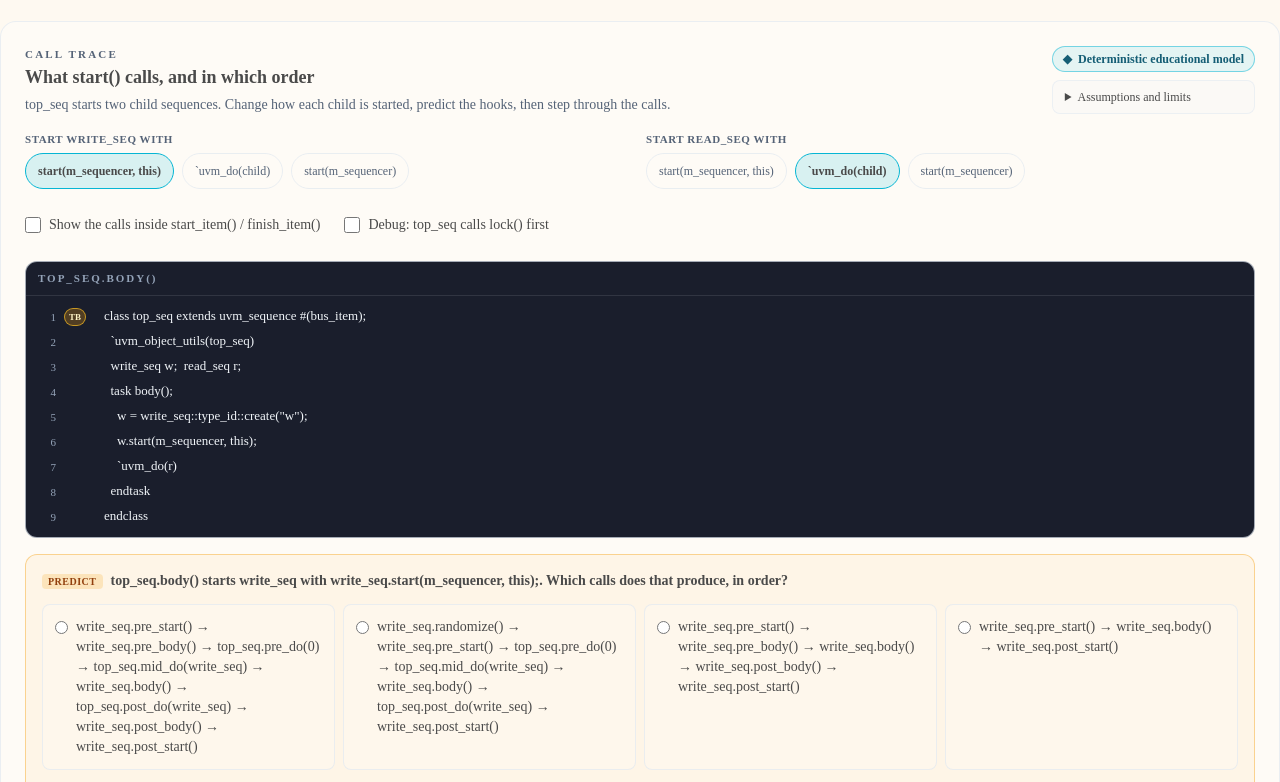
Test: UvmSequenceHierarchyVisualizer › debug: a parent lock deadlocks a child started without a parent
The image size is (1280, 782).
Click the checkbox labelled "Debug: top_seq calls lock() first" at (352, 225), box [344, 217, 360, 233]
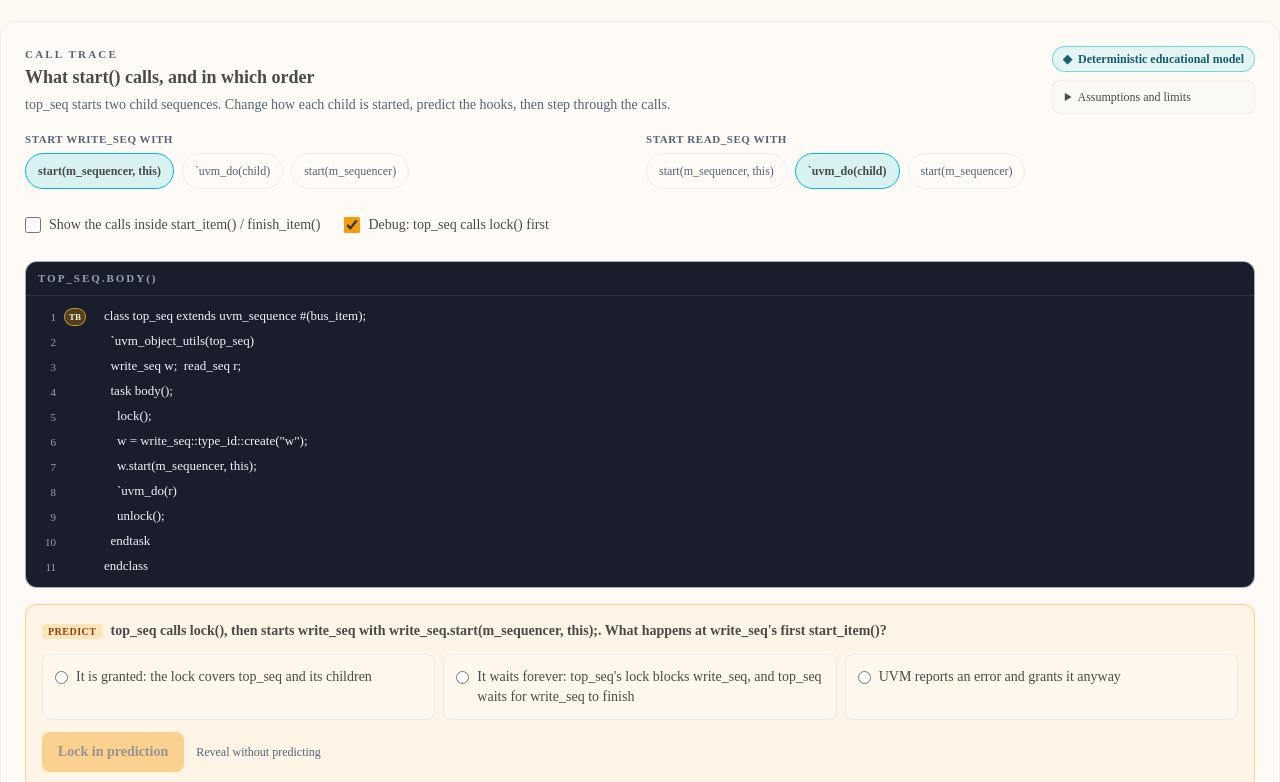
Click the radio button labelled "start(m_sequencer)" below "Start write_seq with" at (350, 171), box [291, 153, 409, 189]
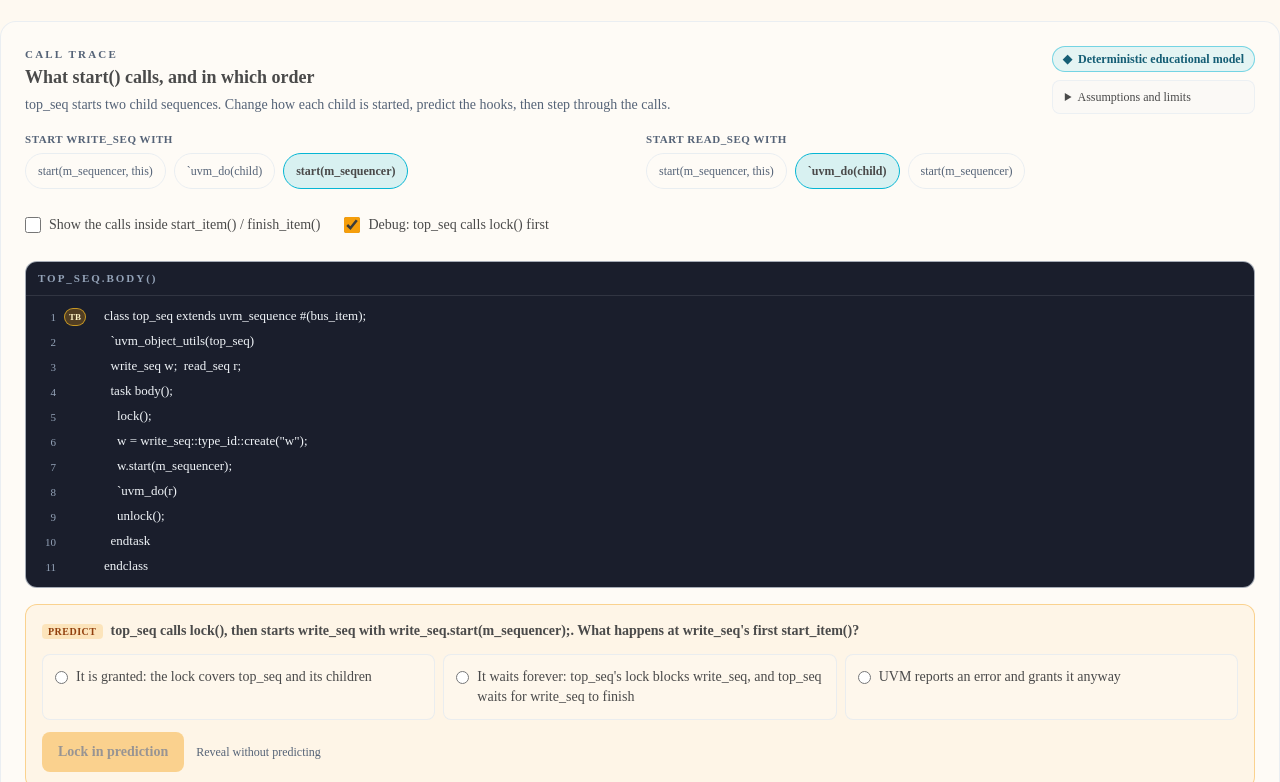
Click the radio button labelled "It waits forever" at (463, 677), box [456, 670, 469, 684]
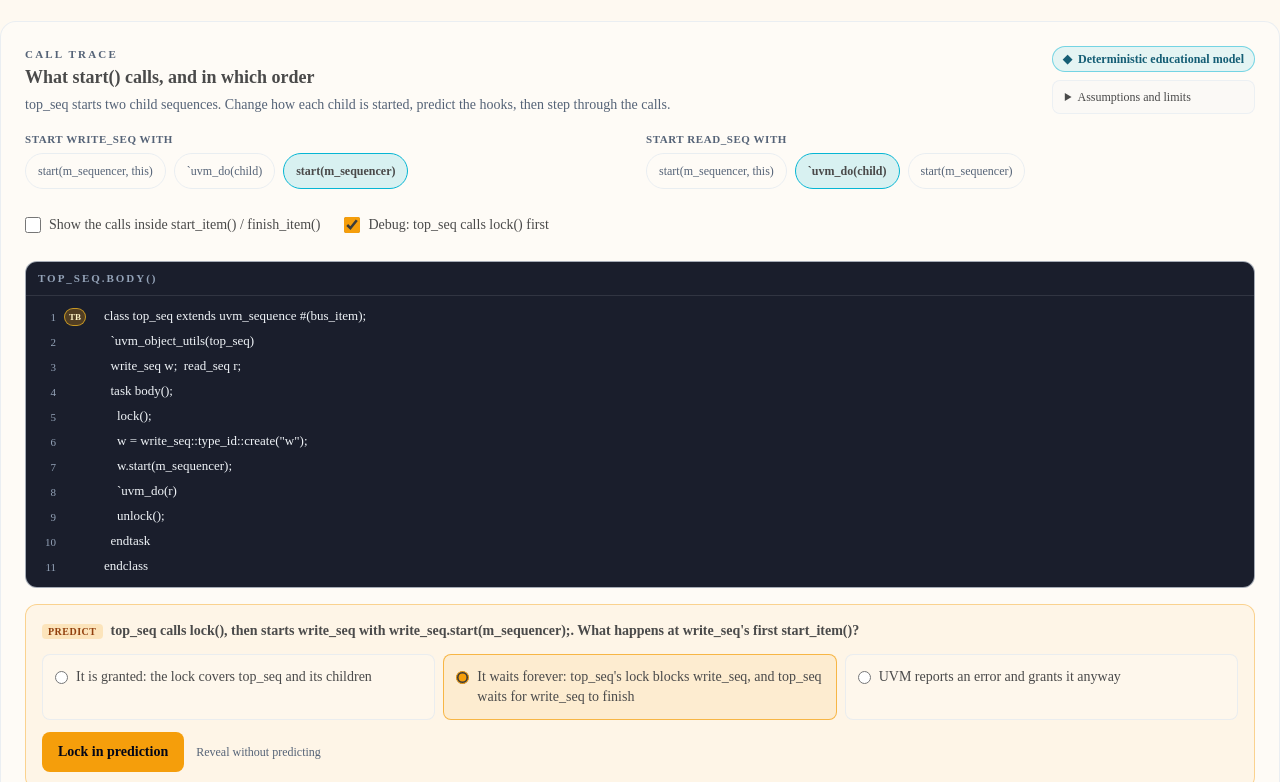
Click the button "Lock in prediction" at (113, 752), box [42, 732, 184, 772]
(page scrolled)
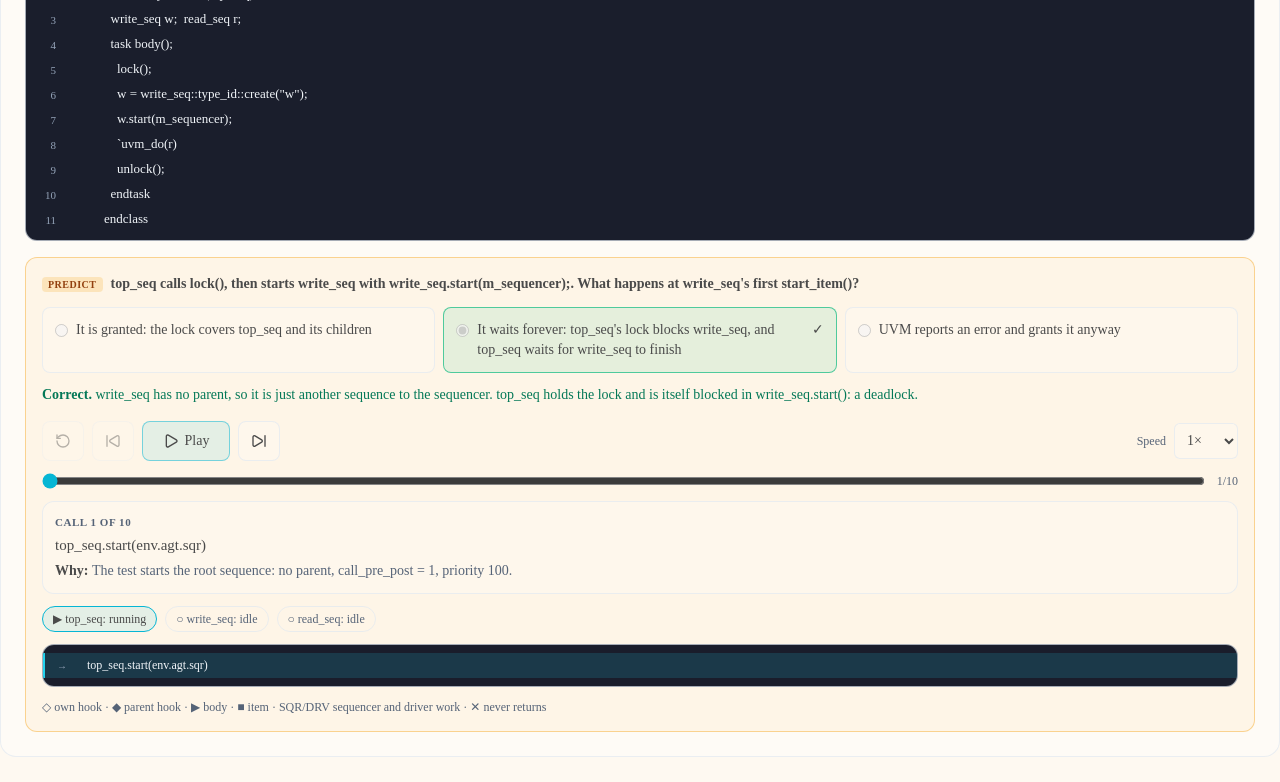
Result: the text "Correct." is shown at [42, 386, 95, 402]
Set the slider to "999" at (623, 480), box [42, 476, 1205, 484]
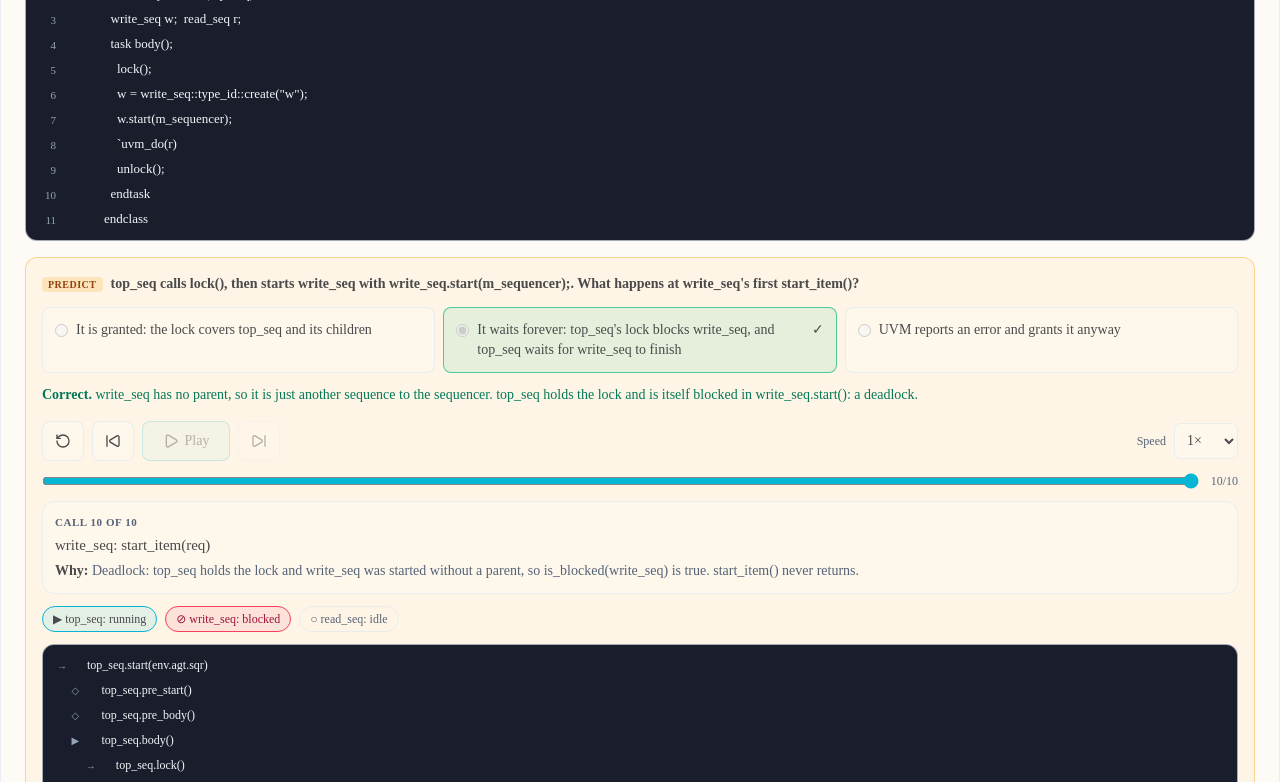
Result: the text "⊘ write_seq: blocked" is shown at [165, 606, 291, 632]
